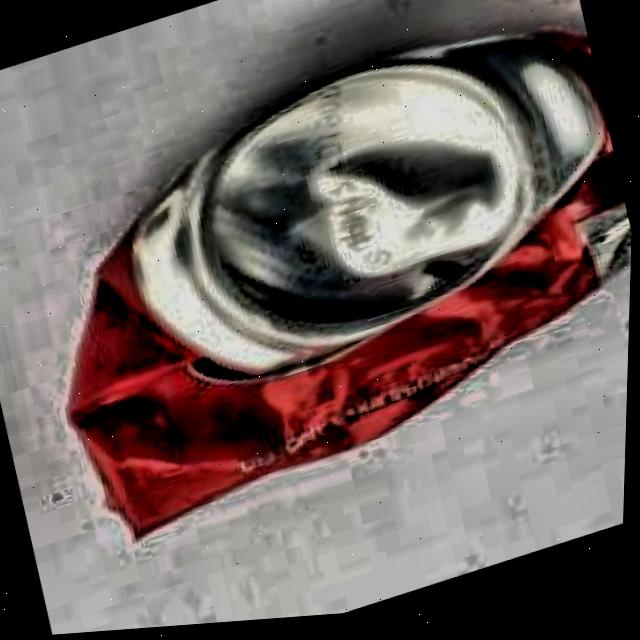metal: (54, 25, 633, 562)
